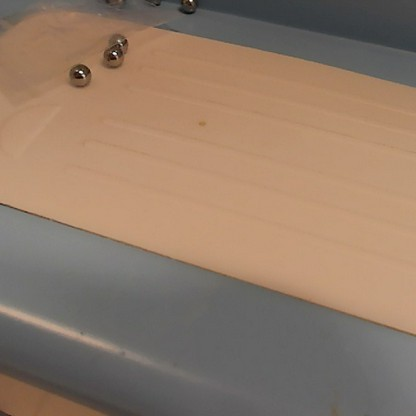ironball: (64, 60, 93, 90), (99, 43, 128, 69), (106, 28, 130, 48), (94, 0, 130, 11), (174, 0, 200, 15), (143, 0, 166, 10)
